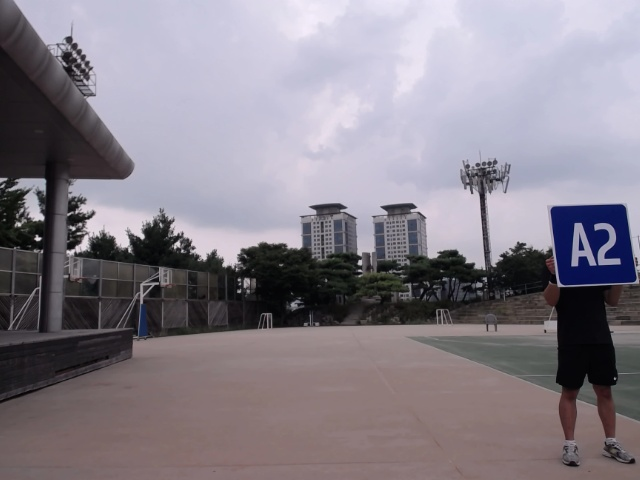delivery_a2: (551, 203, 638, 286)
